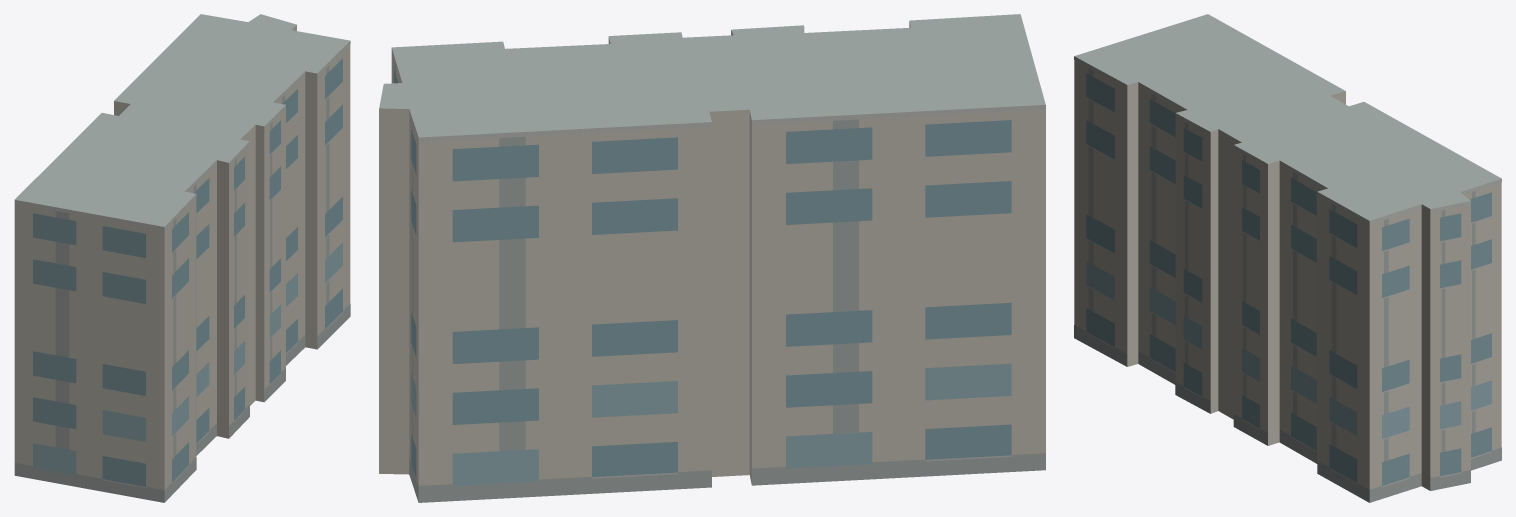
Rendered from survey-upis-32833459.glb.
The picture shows the model from 3 angles, left to right: view 1: azimuth 30°, elevation 25°; view 2: azimuth 150°, elevation 25°; view 3: azimuth 270°, elevation 25°; orthographic projection. The views are drawn at different scales.
Parts seen in each view (by area): view 1: survey-upis-32833459.tmp; view 2: survey-upis-32833459.tmp; view 3: survey-upis-32833459.tmp.
Boxes of the visible parts, x1,y1,x2,y2 form: survey-upis-32833459.tmp: (14,14,350,502); survey-upis-32833459.tmp: (379,14,1045,502); survey-upis-32833459.tmp: (1074,14,1501,502).
Size of the model in its own units: 28.81 by 18.3 by 25.16.
